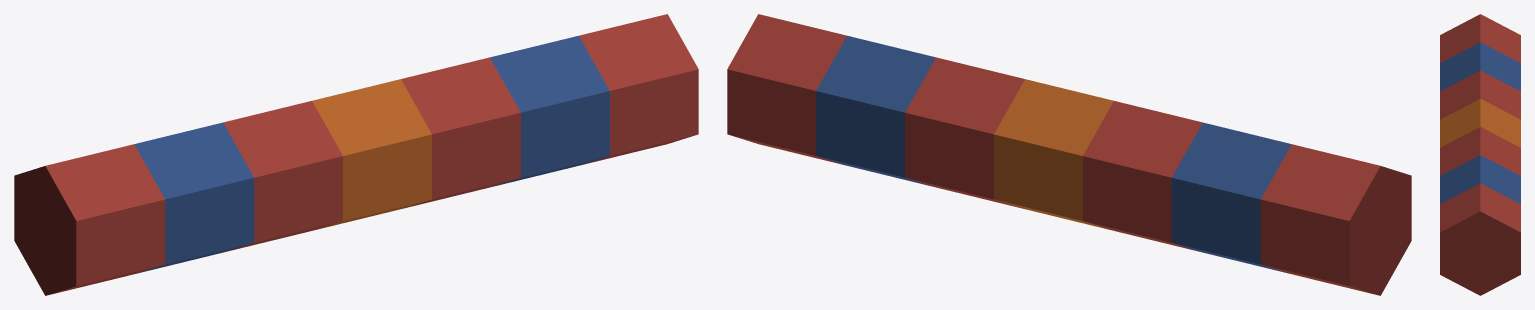
File: kente-throw-roll-25.glb
The picture shows the model from 3 angles, left to right: view 1: azimuth 30°, elevation 25°; view 2: azimuth 150°, elevation 25°; view 3: azimuth 270°, elevation 25°; orthographic projection. The views are drawn at different scales.
Visible parts, largest first — view 1: kente_throw_roll_25; view 2: kente_throw_roll_25; view 3: kente_throw_roll_25.
Boxes of the visible parts, x1=… form: kente_throw_roll_25: x1=14, y1=14, x2=698, y2=295; kente_throw_roll_25: x1=727, y1=14, x2=1411, y2=295; kente_throw_roll_25: x1=1440, y1=14, x2=1520, y2=295.
Bounding box in the file's own units: 1.12 × 0.223 × 0.1931.
